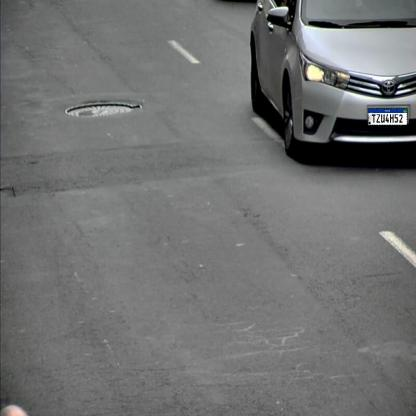PlacaM: (367, 108, 408, 126)
